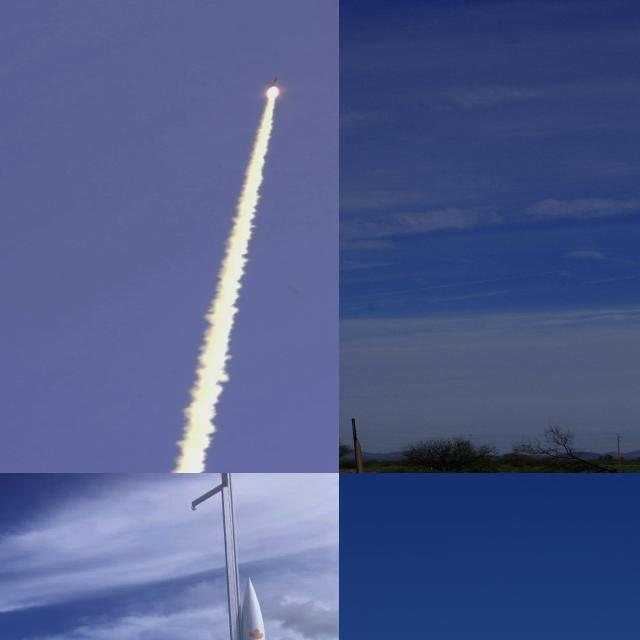Rocket: (351, 437, 373, 473), (272, 76, 278, 86)
